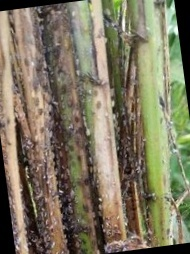Brown_hopper: (83, 70, 104, 88), (46, 99, 59, 124), (138, 190, 159, 204), (33, 35, 47, 54), (23, 138, 34, 162), (65, 185, 76, 201), (31, 183, 40, 196)
